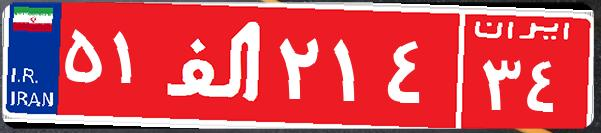1: (330, 28, 385, 110), (110, 28, 158, 105)
2: (273, 28, 330, 110)
3: (475, 38, 525, 113)
4: (385, 28, 445, 110), (525, 38, 570, 115)
5: (57, 26, 110, 107)
الف: (158, 15, 273, 115)
